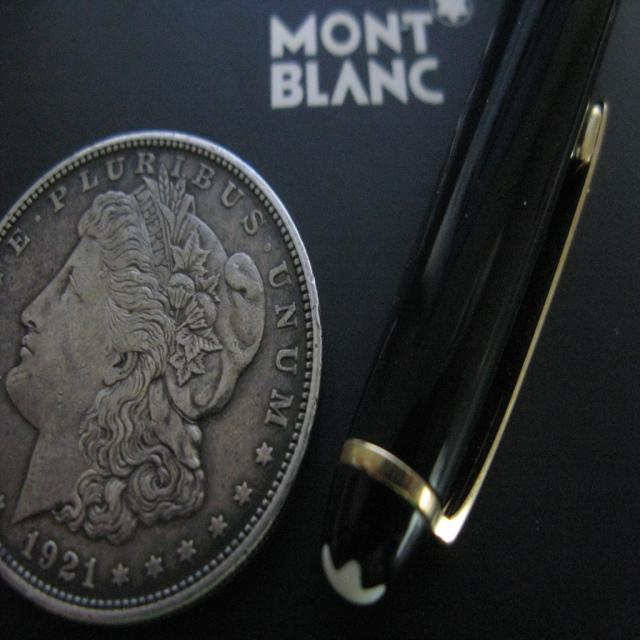Coin: (0, 131, 321, 625)
